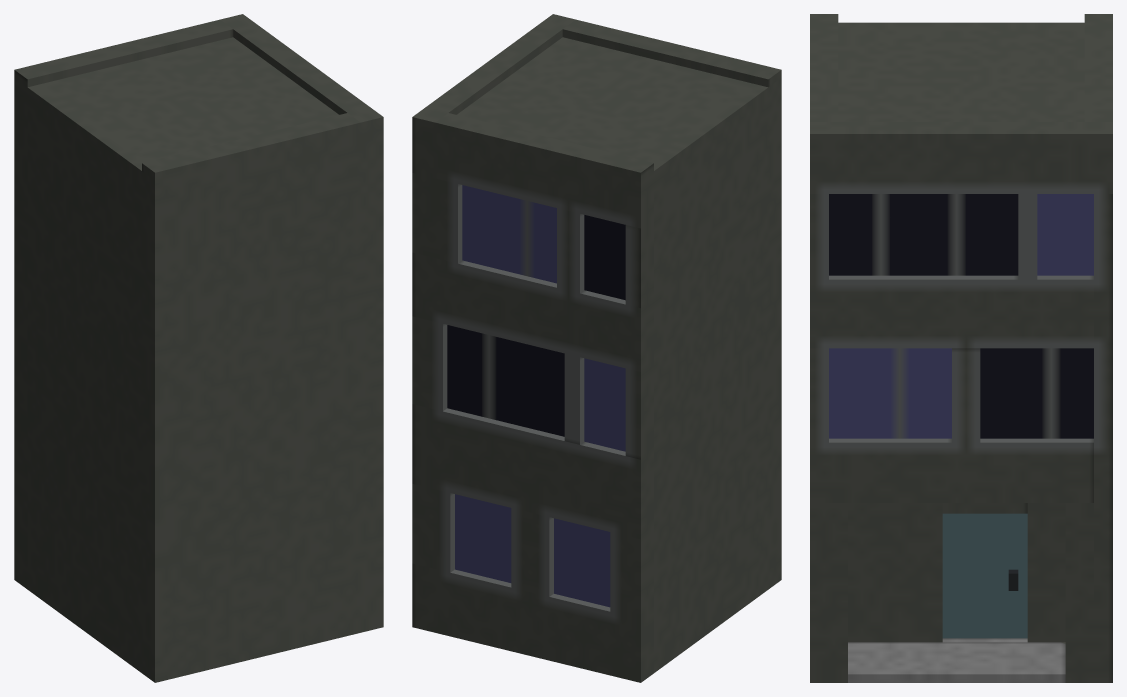
Rendered from U_bok_wejscie_okna_b.dae.
3 views of the same model, side by side, from view 1: azimuth 30°, elevation 25°; view 2: azimuth 150°, elevation 25°; view 3: azimuth 270°, elevation 25° (orthographic). The views are drawn at different scales.
Parts seen in each view (by area): view 1: Content; view 2: Content; view 3: Content.
Part boxes in pixels (x1=…): Content: x1=14, y1=14, x2=383, y2=682; Content: x1=412, y1=14, x2=781, y2=682; Content: x1=810, y1=14, x2=1112, y2=682.
Bounding box in the file's own units: 30 × 64 × 32.
Materials: 1 (1 with a texture image).
